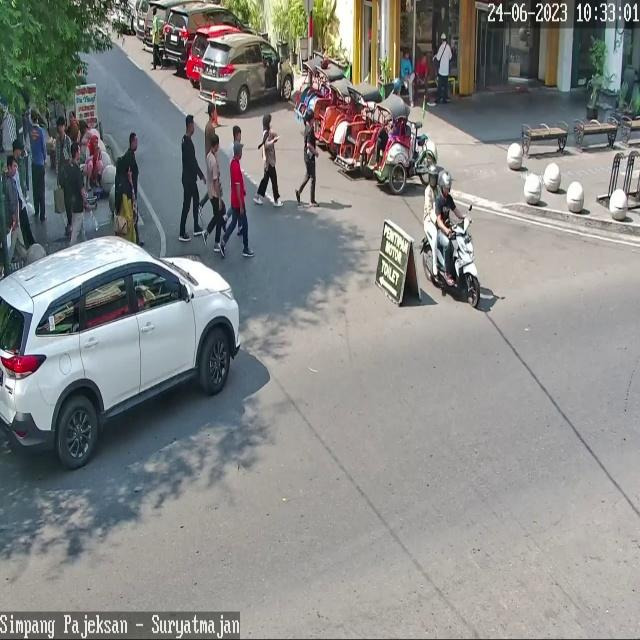bus: (423, 217, 480, 306)
motorcycle: (0, 236, 239, 472), (199, 34, 295, 112), (162, 4, 253, 63), (186, 25, 243, 80), (144, 0, 172, 52)
